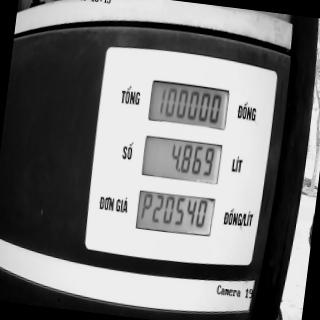screen: (132, 75, 232, 242)
